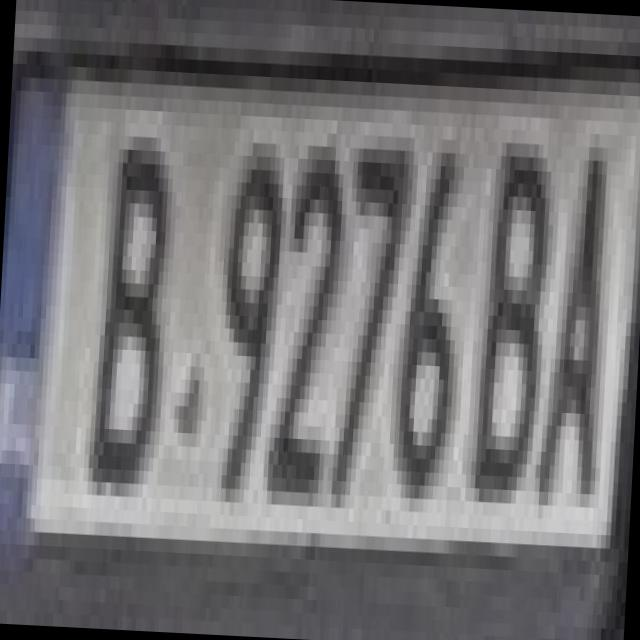2: (262, 117, 346, 494)
6: (378, 98, 472, 500)
7: (322, 95, 412, 498)
9: (203, 114, 287, 491)
A: (526, 105, 614, 494)
B: (74, 108, 186, 486), (455, 101, 555, 505)
